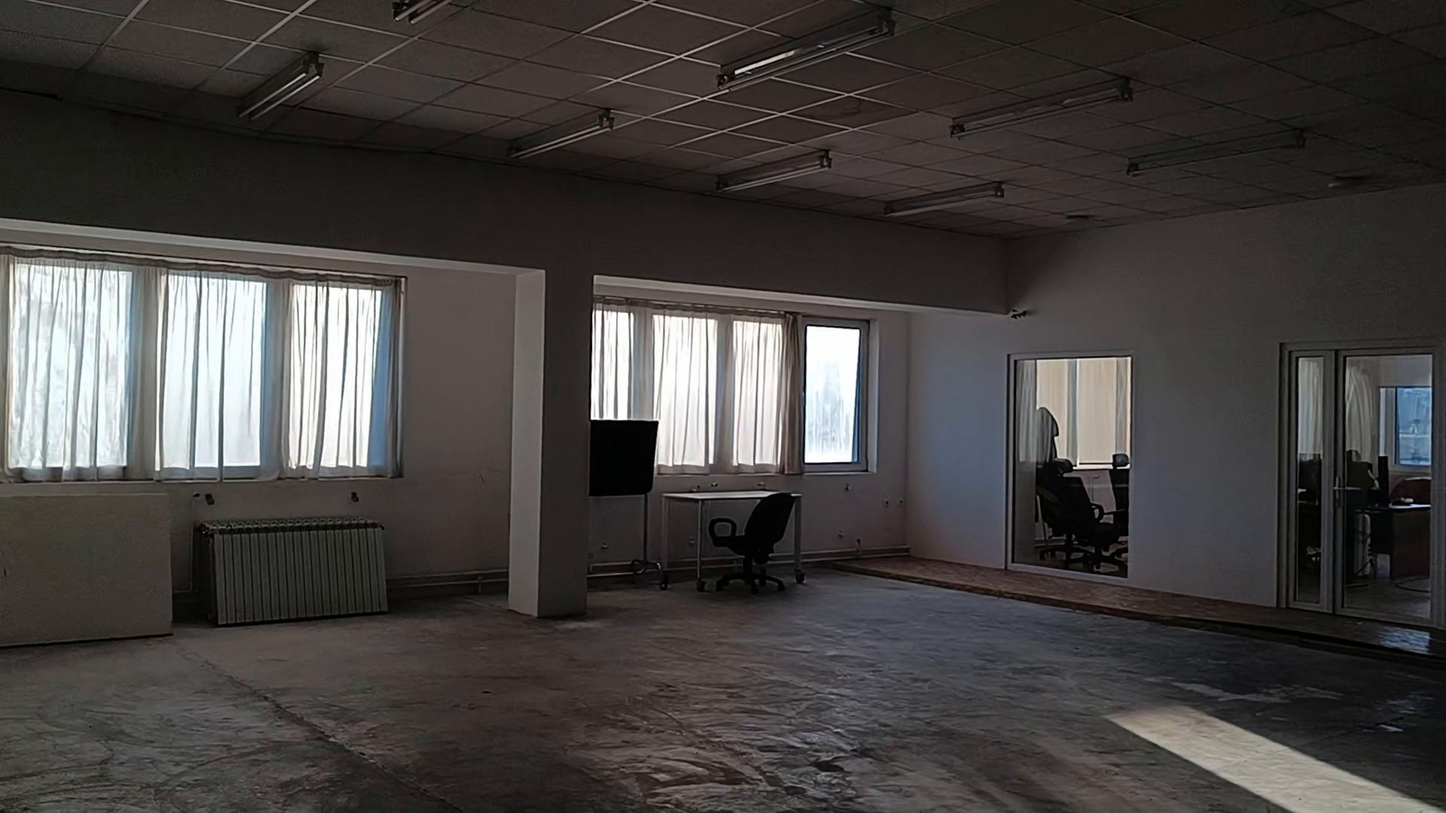ceiling: (0, 0, 1445, 233)
floor: (0, 571, 1445, 812), (845, 556, 1431, 660)
wall: (0, 105, 1010, 620), (915, 189, 1438, 602), (399, 275, 508, 576), (803, 320, 909, 547)
